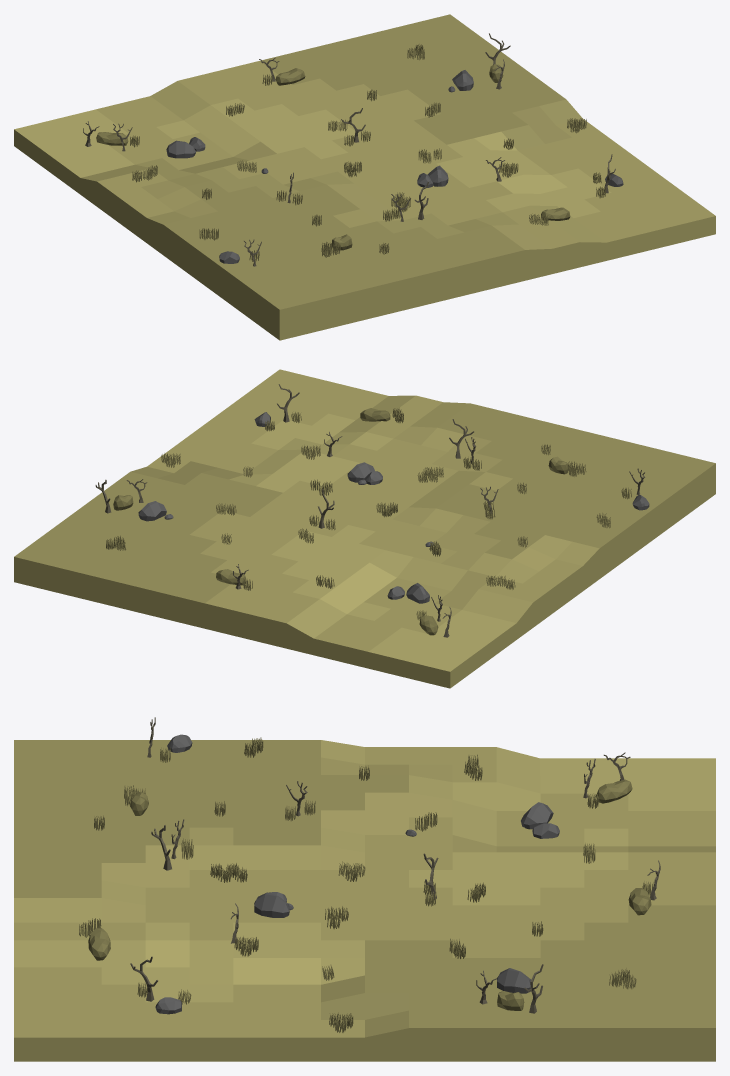
File: fase_cerrado.fbx
3 views of the same model, one above another, from view 1: azimuth 30°, elevation 25°; view 2: azimuth 150°, elevation 25°; view 3: azimuth 270°, elevation 25° (orthographic). The views are drawn at different scales.
Visible parts, largest first — view 1: Terreno Cerrado; view 2: Terreno Cerrado; view 3: Terreno Cerrado, Rocha 2.003, Rocha 2.001, Cerrado Arbusto 2.001, Rocha 2.002, Cerrado Arbusto 2.002.
Part boxes in pixels (<box>): Terreno Cerrado: <box>14,14,715,340</box>; Terreno Cerrado: <box>14,369,715,688</box>; Terreno Cerrado: <box>14,740,715,1061</box>; Rocha 2.003: <box>254,892,289,917</box>; Rocha 2.001: <box>497,968,530,993</box>; Cerrado Arbusto 2.001: <box>596,779,632,803</box>; Rocha 2.002: <box>521,802,553,829</box>; Cerrado Arbusto 2.002: <box>88,928,110,960</box>.
Size of the model in its own units: 3600 by 527 by 3800.
